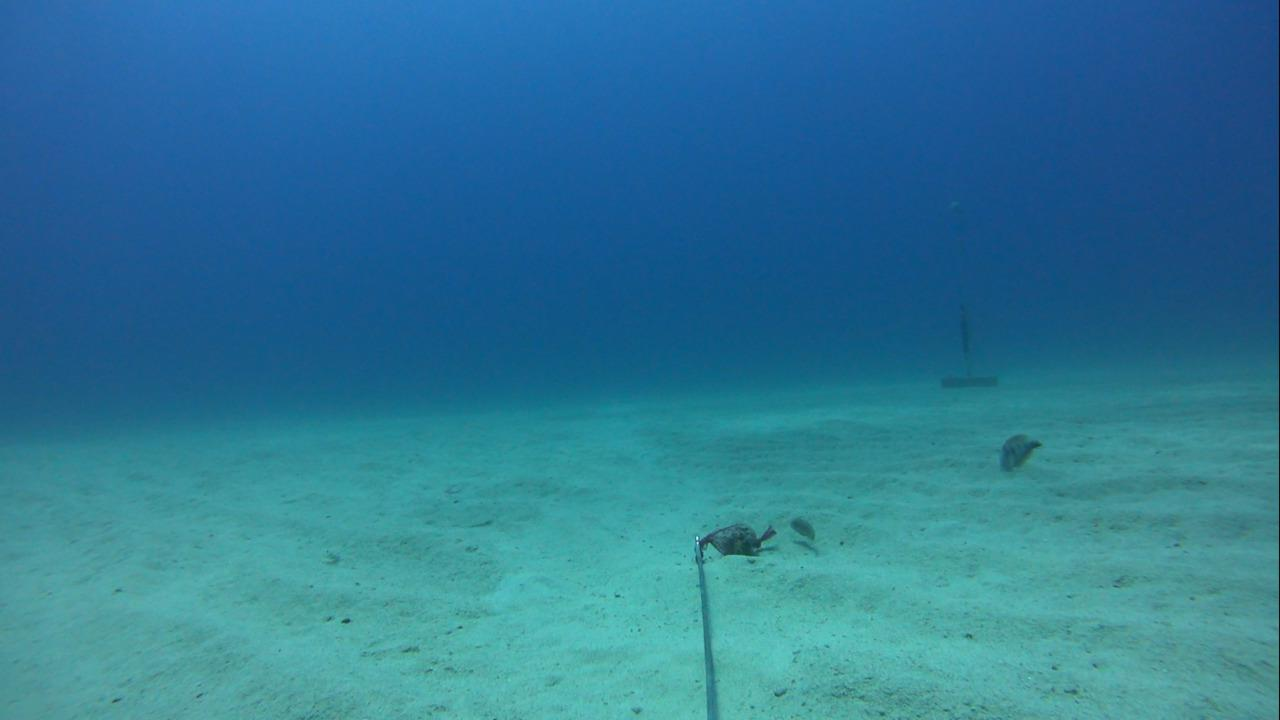raor: (988, 427, 1045, 475), (782, 510, 828, 541)
